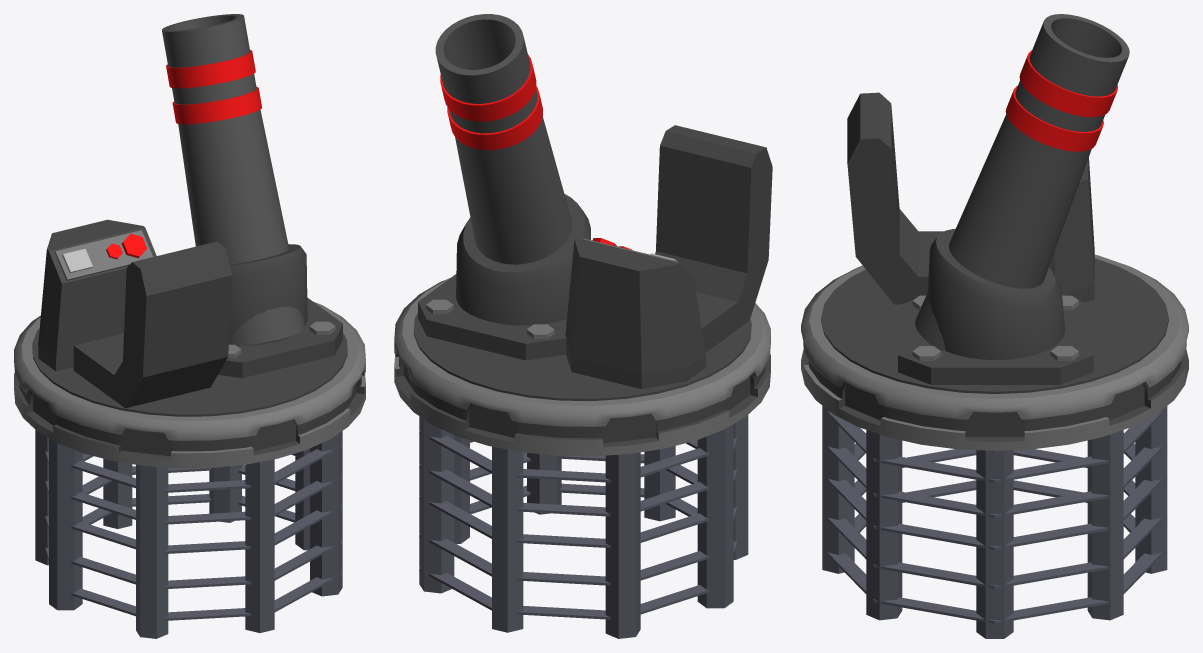
The model's file is mortar-max1.glb.
The picture shows the model from 3 angles, left to right: view 1: azimuth 30°, elevation 25°; view 2: azimuth 150°, elevation 25°; view 3: azimuth 270°, elevation 25°; orthographic projection. The views are drawn at different scales.
Parts seen in each view (by area): view 1: mortar; view 2: mortar; view 3: mortar.
Part boxes in pixels (bbox=[...]): mortar: bbox=[14, 14, 365, 638]; mortar: bbox=[394, 14, 772, 638]; mortar: bbox=[801, 14, 1188, 638].
Bounding box in the file's own units: 6.68 × 10.87 × 6.68.
Materials: 2 (1 with a texture image).
